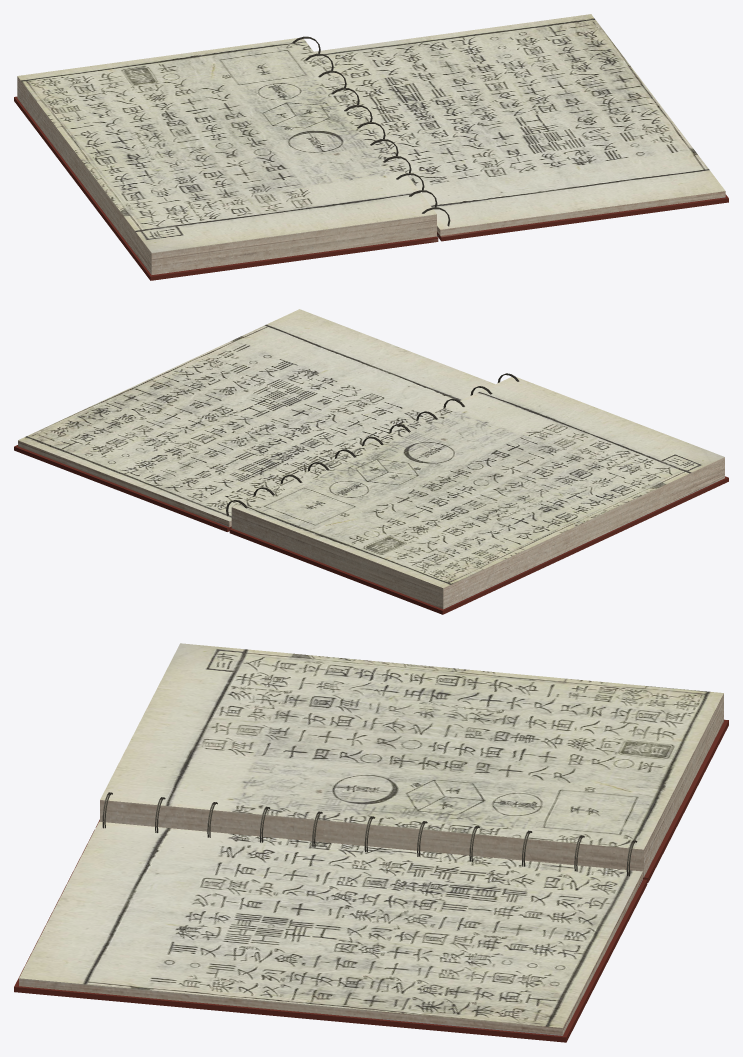
The model's file is notebook.gltf.
The picture shows the model from 3 angles, top to bottom: view 1: azimuth 30°, elevation 25°; view 2: azimuth 150°, elevation 25°; view 3: azimuth 270°, elevation 25°; orthographic projection. The views are drawn at different scales.
Visible parts, largest first — view 1: notebook; view 2: notebook; view 3: notebook.
Boxes of the visible parts, left/top/right/bottom form: notebook: left=14, top=14, right=728, bottom=280; notebook: left=14, top=309, right=728, bottom=614; notebook: left=14, top=643, right=728, bottom=1042.
Bounding box in the file's own units: 0.3522 × 0.0171 × 0.2892.
Materials: 1 (1 with a texture image).
